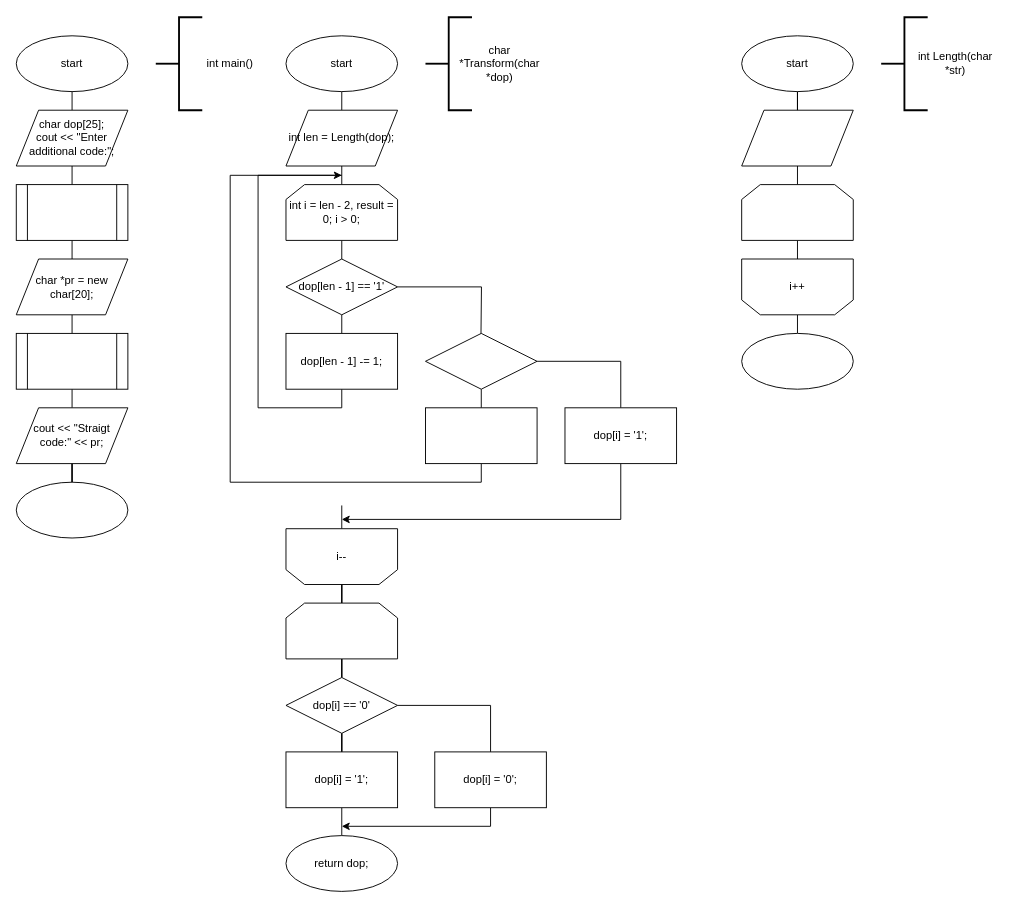
Some shapes in this 1018 by 908 pixel diagram are drawn without their labels. Here are the shapes that lost their labels. From the top down, the centre of each, then its label:
At (x=797, y=137): "int i;".
At (x=71, y=212): "gets(dop);".
At (x=797, y=212): "i = 0; str[i] != '\0';".
At (x=71, y=360): "pr = Transform(dop);".
At (x=481, y=360): "dop[i] == '1'".
At (x=797, y=360): "return i;".
At (x=481, y=435): "dop[i] = '0'; dop[len-1] = '1';".
At (x=71, y=509): "return 0;".
At (x=341, y=630): "int i = 2; i < len;".
